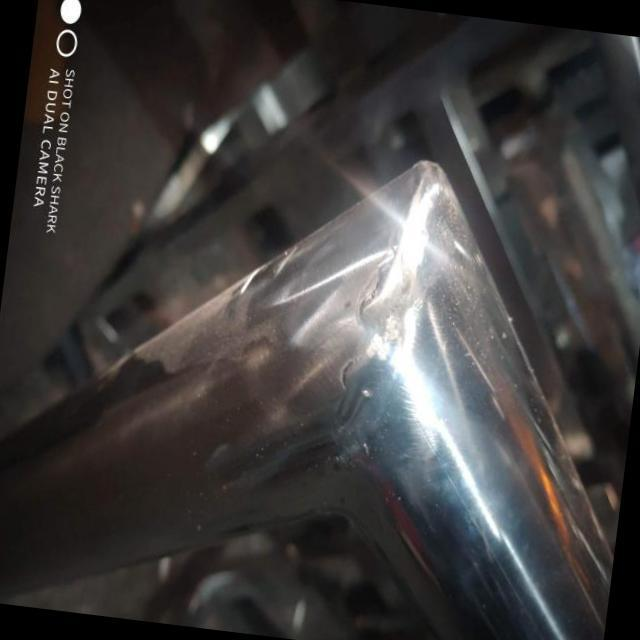defect: (353, 200, 414, 335), (333, 351, 356, 423)
